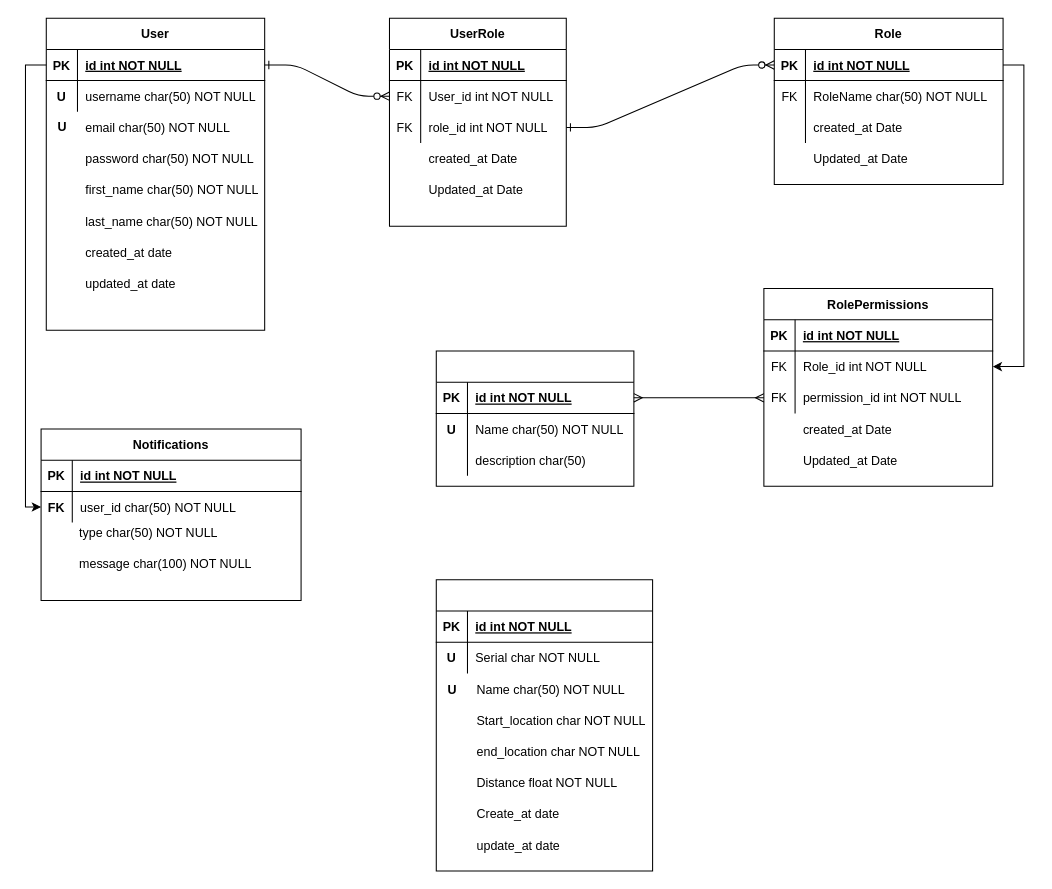
Some shapes in this 1052 by 889 pixel diagram are drawn without their labels. Each missing label, with the box of its shape:
Permissions: (435, 350, 634, 486)
Routes: (435, 579, 653, 871)
